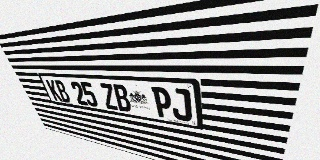2: (69, 81, 88, 106)
5: (80, 82, 99, 107)
B: (112, 84, 132, 113), (53, 80, 72, 103)
J: (170, 88, 192, 122)
K: (45, 79, 63, 102)
P: (151, 87, 173, 119)
Z: (99, 83, 119, 110)
